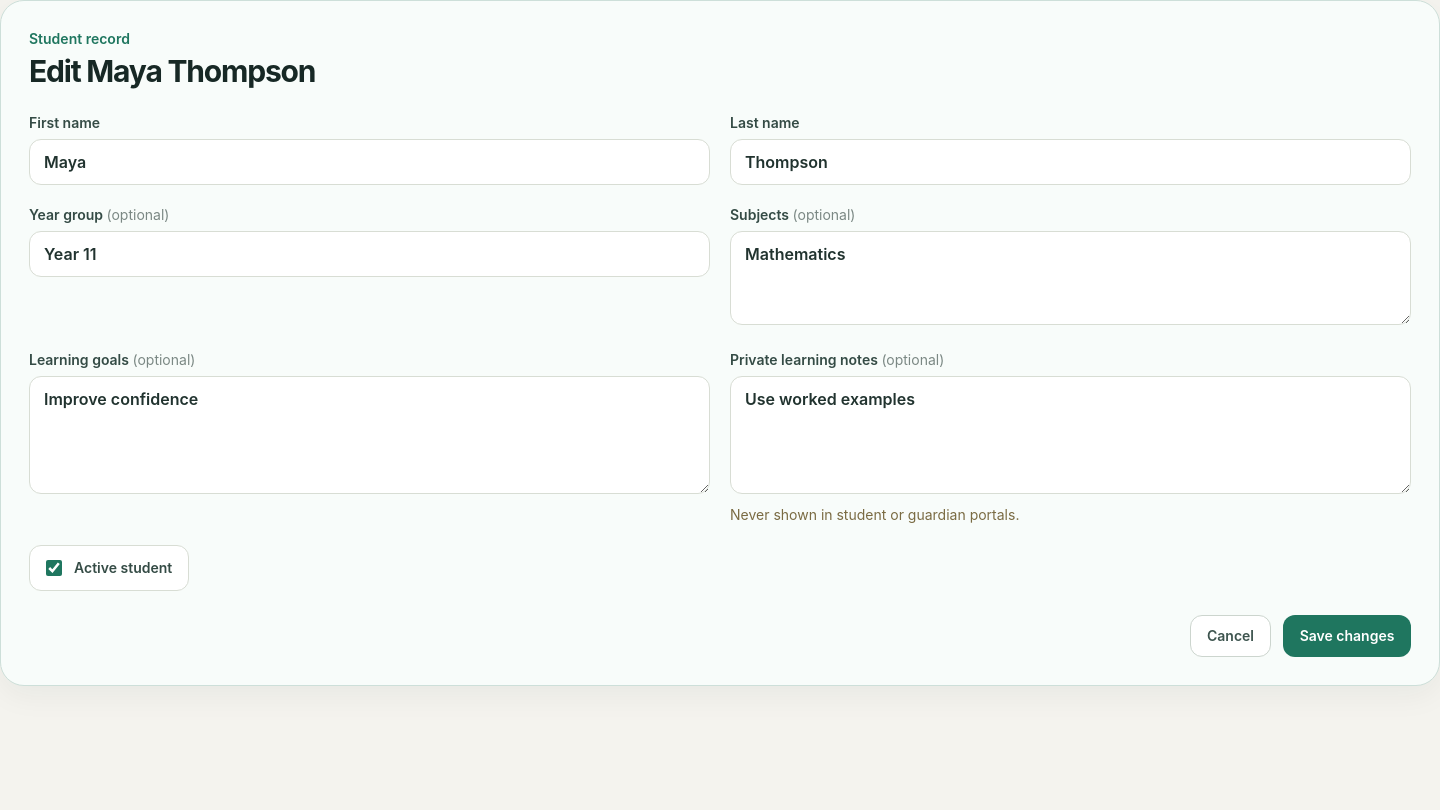
Test: reports a failure and keeps the form available
Click the button "Save changes".
click(1347, 636)  # box [1283,615,1411,657]
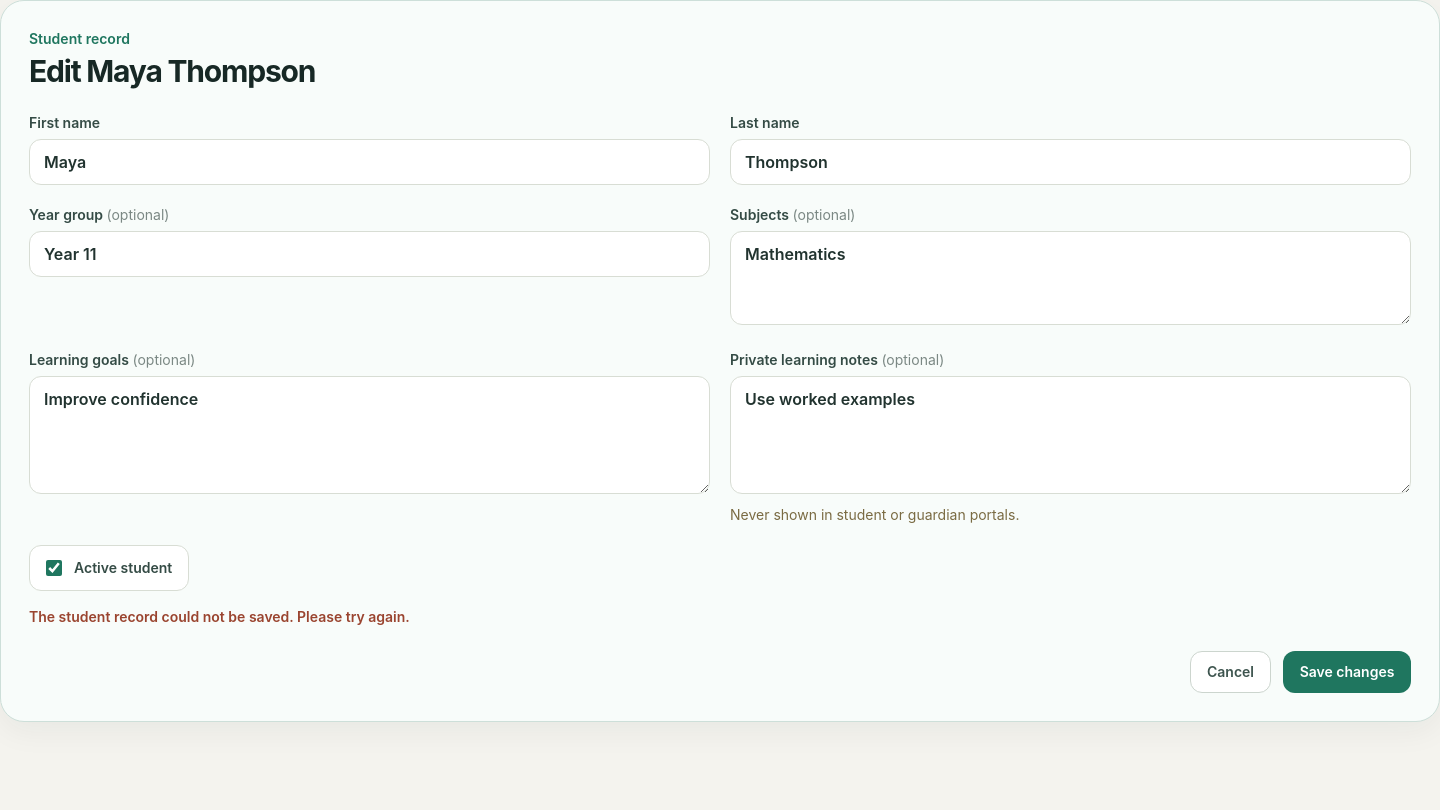
Expected: the button "Save changes" is enabled, [1283,651,1411,693]
Result: the message shows "could not be saved" at [29,608,410,625]
